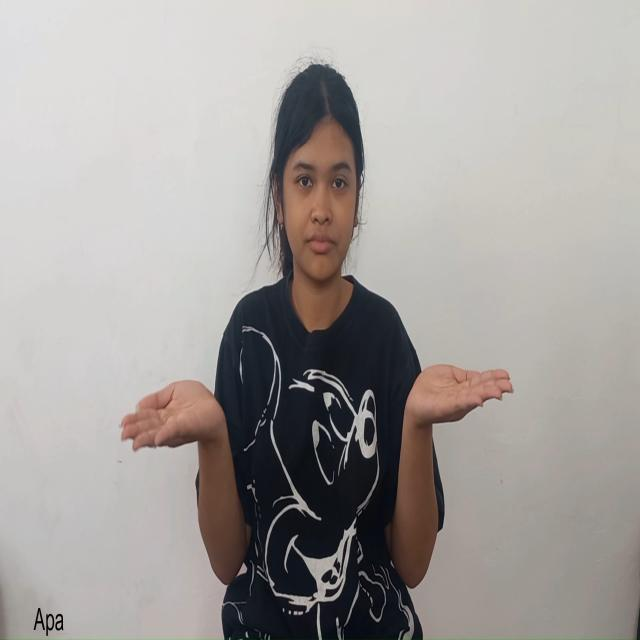Apa -BISINDO-: (115, 356, 518, 594)
